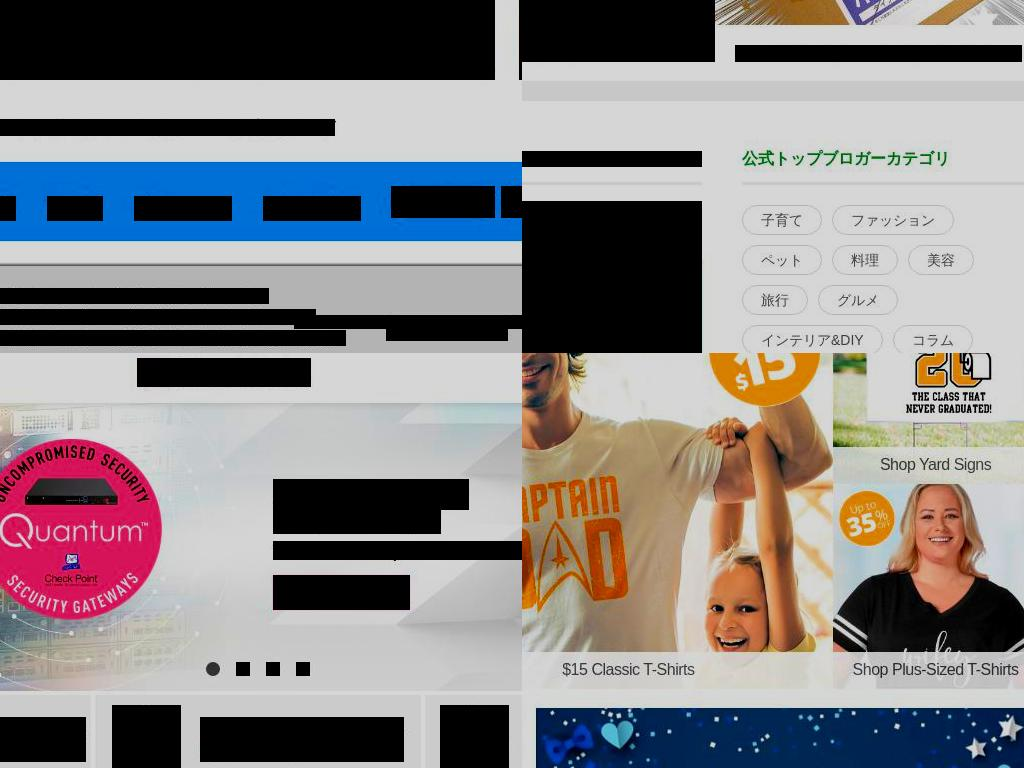button: (522, 353, 834, 689), (833, 483, 1024, 689), (536, 707, 1024, 768), (522, 201, 702, 353), (833, 353, 1024, 484), (715, 0, 1024, 62), (200, 717, 404, 762), (137, 358, 311, 387), (273, 575, 410, 610), (742, 325, 883, 353), (0, 717, 86, 762), (832, 205, 954, 235), (391, 186, 495, 218), (386, 315, 508, 341), (134, 196, 232, 221), (263, 196, 361, 221), (742, 205, 822, 235), (742, 245, 822, 275), (818, 285, 898, 315), (892, 325, 973, 353), (832, 245, 898, 275), (908, 245, 974, 275), (742, 285, 808, 315), (47, 196, 103, 221), (501, 186, 522, 218), (0, 196, 16, 221)
heading: (273, 479, 469, 510), (273, 503, 441, 534), (742, 151, 1024, 167), (522, 151, 702, 167)
image: (522, 353, 834, 689), (0, 0, 495, 80), (833, 483, 1024, 689), (536, 707, 1024, 768), (833, 353, 1024, 484), (522, 261, 702, 353), (137, 358, 311, 387), (112, 705, 181, 768), (440, 705, 509, 768), (206, 662, 220, 676), (236, 662, 250, 676), (266, 662, 280, 676), (296, 662, 310, 676)
link: (522, 201, 702, 251), (0, 119, 335, 136), (735, 45, 1022, 62), (200, 717, 404, 739), (522, 45, 695, 62), (0, 717, 86, 739)
text: (522, 651, 834, 689), (833, 651, 1024, 689), (833, 447, 1024, 484), (0, 330, 346, 346), (0, 309, 316, 325), (273, 541, 522, 560), (0, 288, 269, 304), (294, 315, 522, 329), (200, 738, 304, 762)
